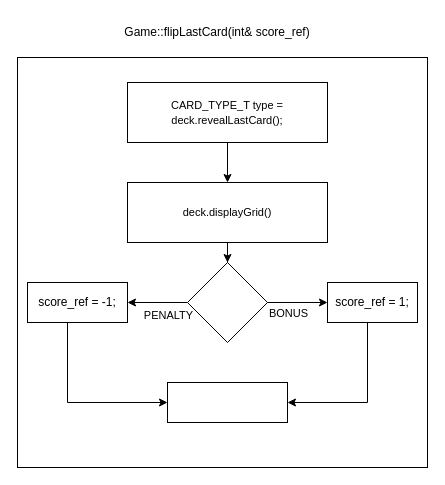
Image size: 445x485. Some labels were removed from this diagram. The shapes that lost their labels are listed below. From the top down, each one's box as (x1, y1, x2, y2) in pixels, then its label:
(186, 262, 268, 342): type?
(166, 382, 288, 422): End
